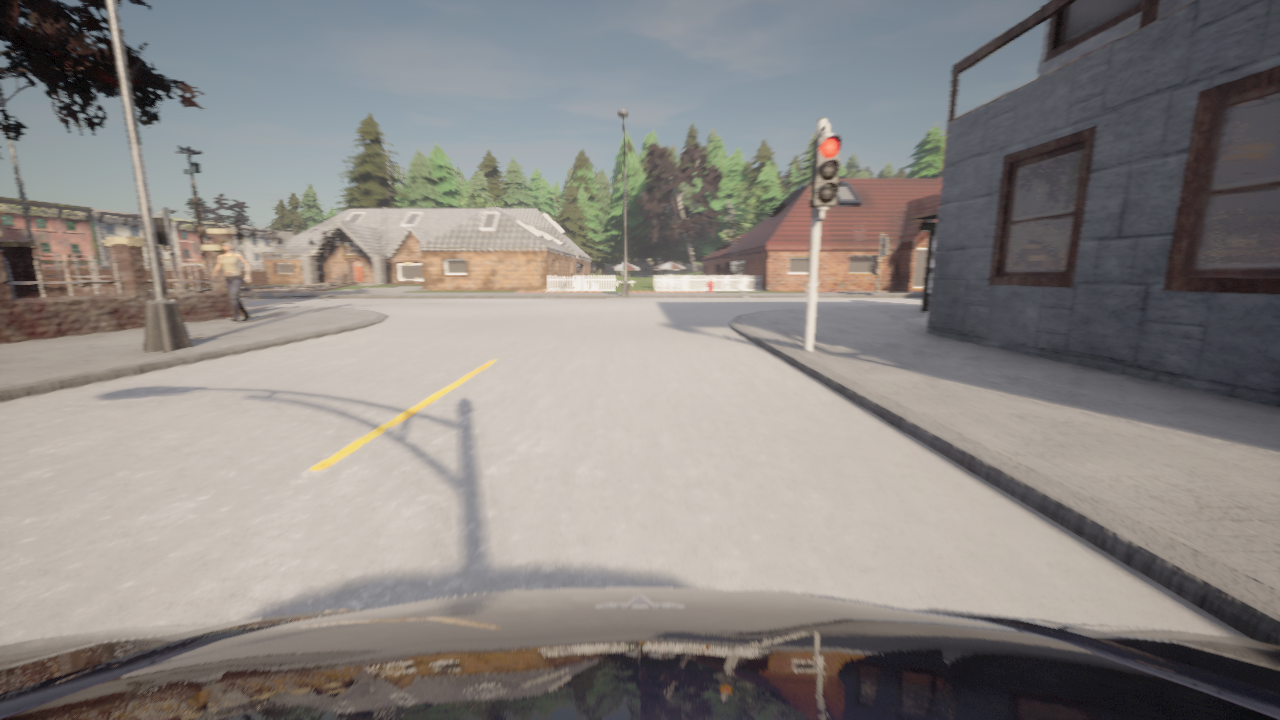cyclist: (0, 588, 1279, 719)
pedestrian: (213, 239, 250, 322)
